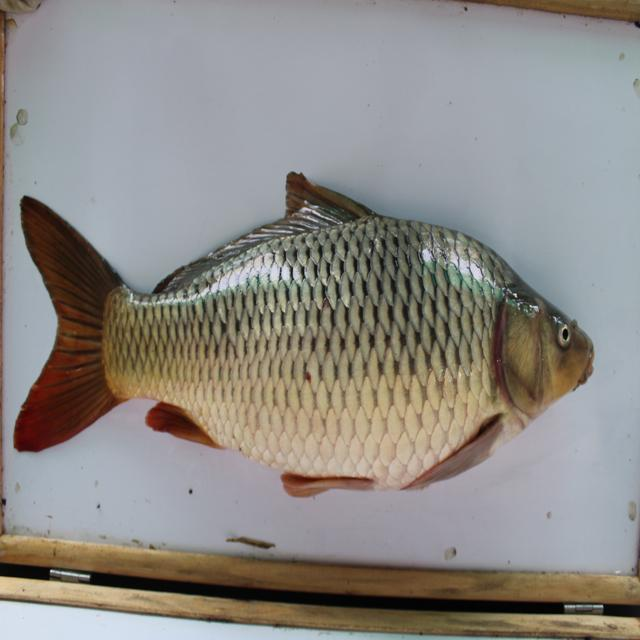CommonCarp: (16, 177, 587, 512)
